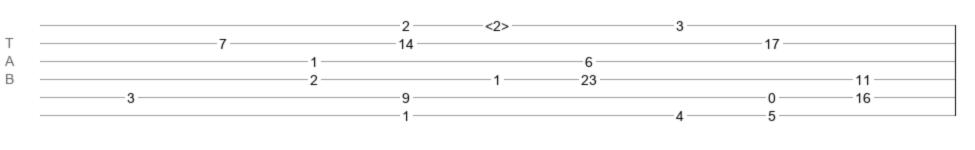0: (768, 90, 776, 100)
1: (310, 54, 318, 64), (402, 108, 410, 118), (493, 72, 501, 82)
11: (855, 72, 871, 82)
14: (398, 36, 414, 46)
16: (855, 90, 871, 100)
17: (764, 36, 780, 46)
2: (310, 72, 318, 82), (402, 18, 410, 28)
23: (581, 72, 597, 82)
3: (127, 90, 135, 100), (676, 18, 684, 28)
4: (676, 108, 684, 118)
5: (768, 108, 776, 118)
6: (585, 54, 593, 64)
7: (219, 36, 227, 46)
9: (402, 90, 410, 100)
harmonic: (485, 18, 509, 28)
